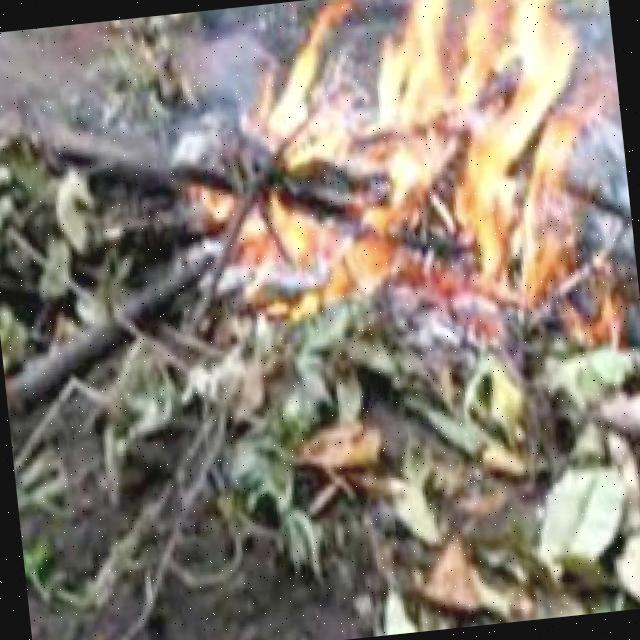fire: (221, 0, 611, 303)
